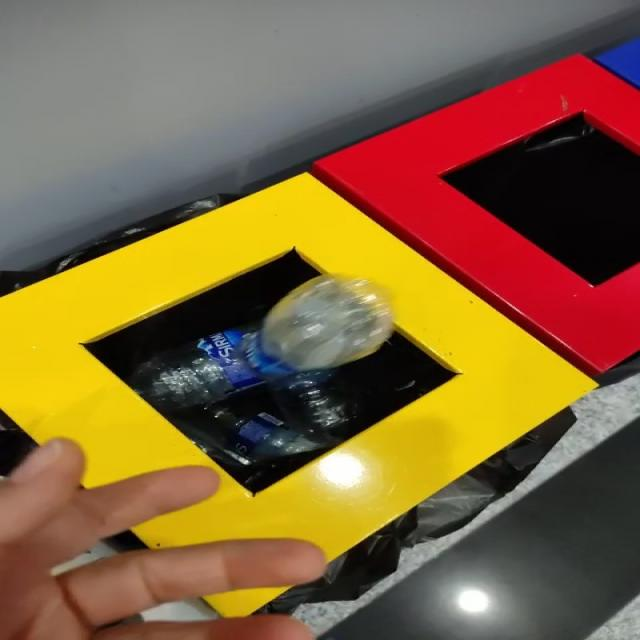plastic: (232, 275, 393, 462)
